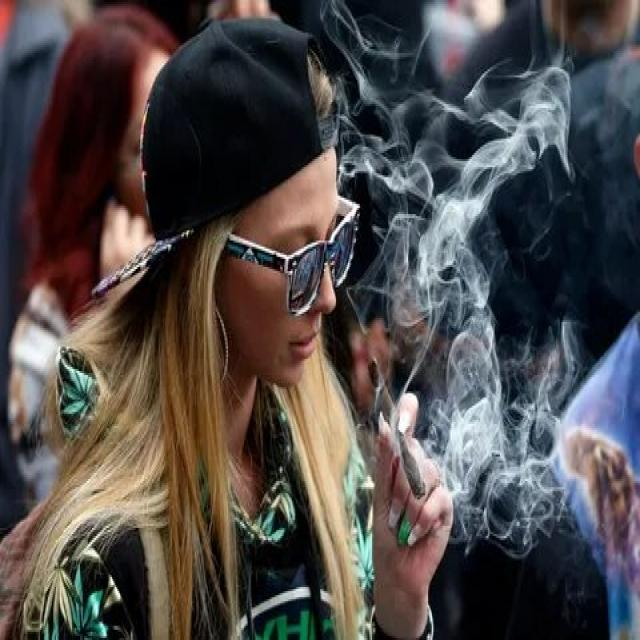smoke: (365, 350, 428, 510)
